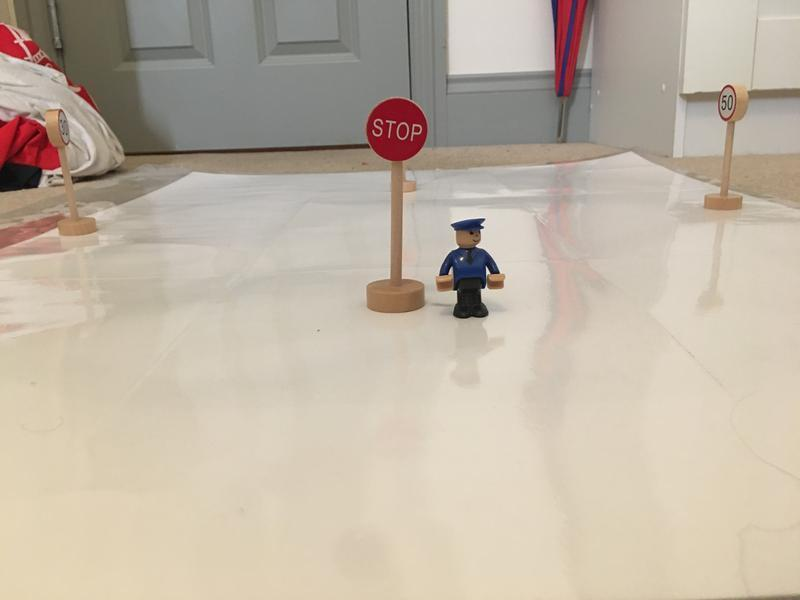Traffic_Sign_50: (717, 85, 737, 120)
Traffic_Sign_Stop: (366, 96, 428, 162)
person: (434, 217, 506, 322)
